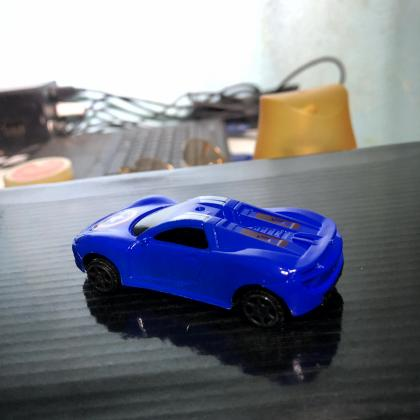Car: (72, 196, 345, 328)
